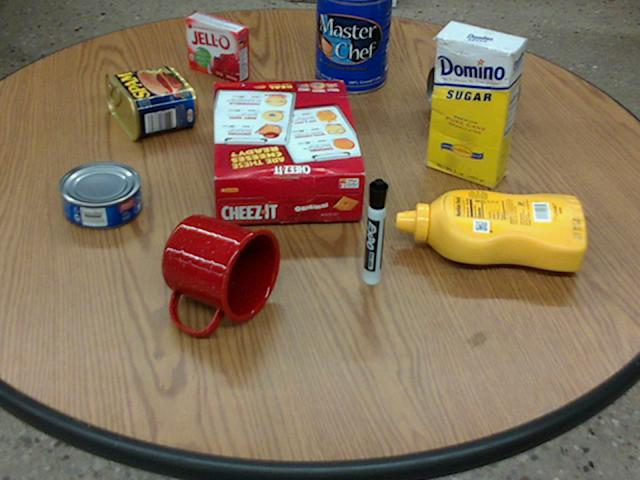cracker_box: (212, 80, 365, 224)
gelatin_box: (185, 11, 249, 81)
large_marker: (362, 178, 386, 284)
master_chef_can: (315, 0, 392, 92)
mug: (159, 215, 278, 333)
mustard_bottle: (396, 189, 585, 271)
potted_meat_can: (105, 66, 195, 138)
sugar_box: (427, 21, 525, 188)
tomato_soup_can: (427, 57, 519, 117)
tuna_fish_can: (58, 161, 140, 228)
